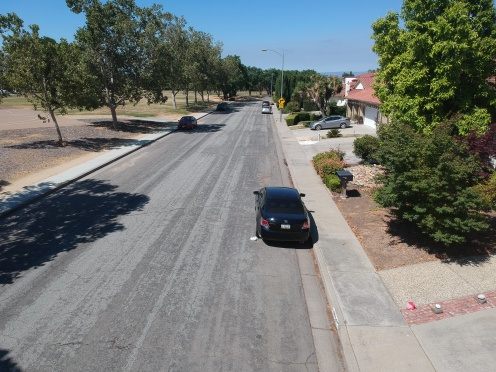plastic bag: (401, 299, 418, 317), (248, 235, 258, 242)
